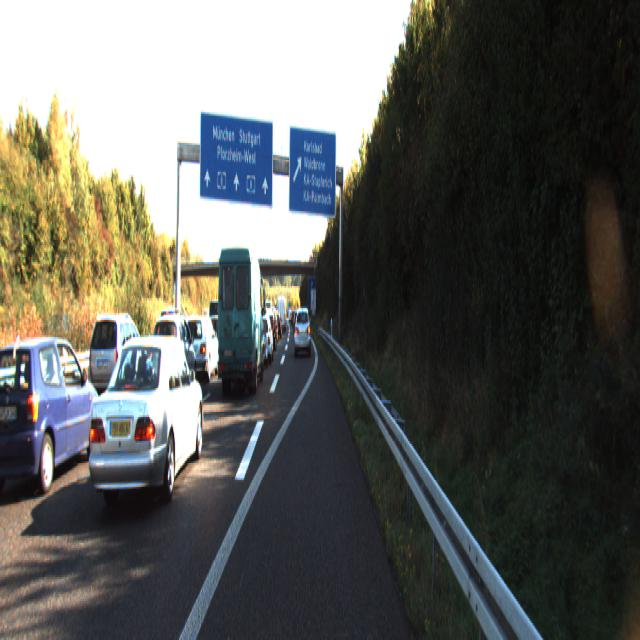Car: (86, 331, 206, 525), (0, 331, 105, 500), (216, 243, 264, 399), (86, 310, 148, 407), (148, 312, 198, 408), (182, 311, 219, 383), (254, 312, 274, 365), (294, 304, 311, 355), (262, 313, 277, 352)
